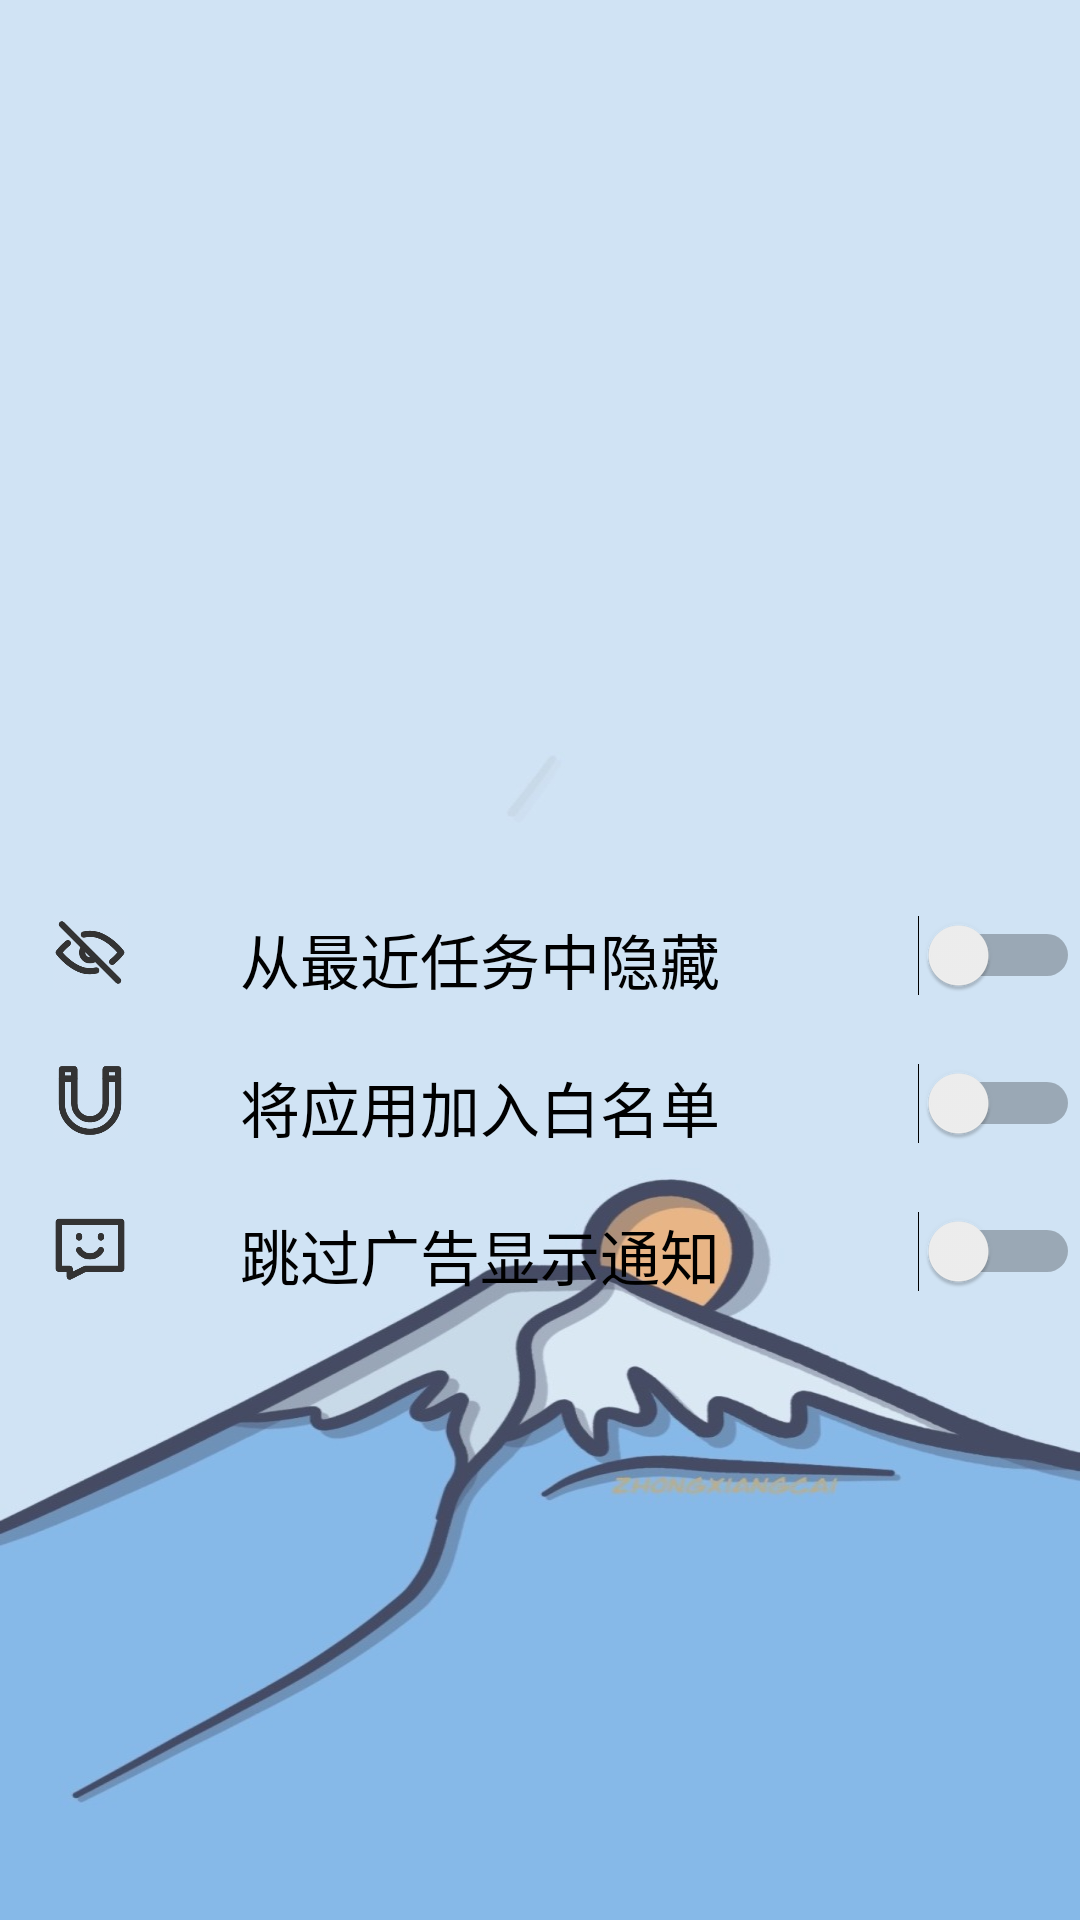

Named icons in this screenshot (1080×1920) and their bounding boxes, bbox(x1, y1, x2, y2):
hide me: bbox(55, 921, 125, 984)
